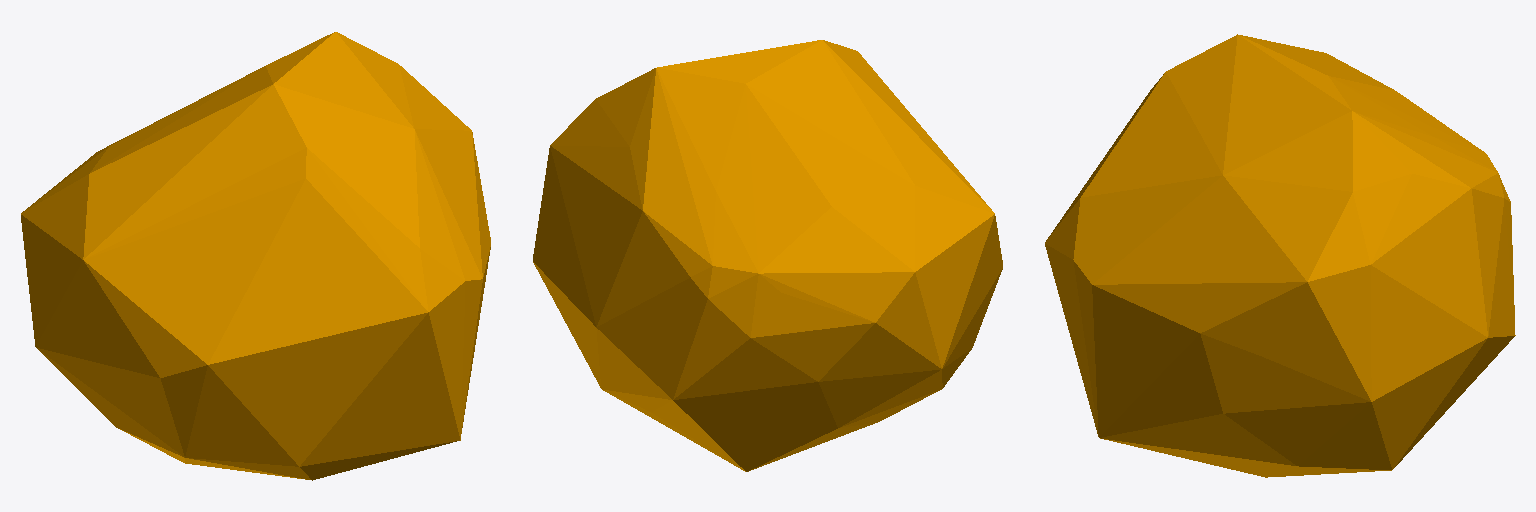
robot.urdf — 054_011_6928:
<?xml version="1.0"?>
<robot name="054_011_6928">
  <link name="link">
    <contact>
      <lateral_friction value="0.6"/>
    </contact>
    <inertial>
      <mass value = "0.4651502965415059"/>
      <inertia ixx="0.00022504910878917632" ixy="1.1907648651606811e-20" ixz="-4.677903571901216e-20" iyy="0.00025304461854015655" iyz="1.334952719581498e-20" izz="0.0002683498173946608" />
    </inertial>
    <visual name="visual">
      <geometry>
        <mesh filename="054_011_6928.obj"/>
      </geometry>
    </visual>
    <collision name="collision">
      <geometry>
        <mesh filename="054_011_6928.obj"/>
      </geometry>
    </collision>
  </link>
</robot>

--- What the picture shows (computed from the rendered views, not written in the file) ---
3 views of the same robot in one strip: view 1: azimuth 30°, elevation 25°; view 2: azimuth 150°, elevation 25°; view 3: azimuth 270°, elevation 25° (orthographic).
Model 054_011_6928 with 1 links and 0 joints (none), rooted at link, posed every joint at zero.
Visible links, largest first — view 1: link; view 2: link; view 3: link.
Boxes of the visible links, x1,y1,x2,y2 form: link: [21, 32, 490, 480]; link: [533, 40, 1002, 471]; link: [1045, 34, 1515, 477].
Size in the robot's own frame: 0.0813 by 0.0763 by 0.0712 metres.
1 mesh visuals loaded from 1 distinct referenced files (1 OBJ).
